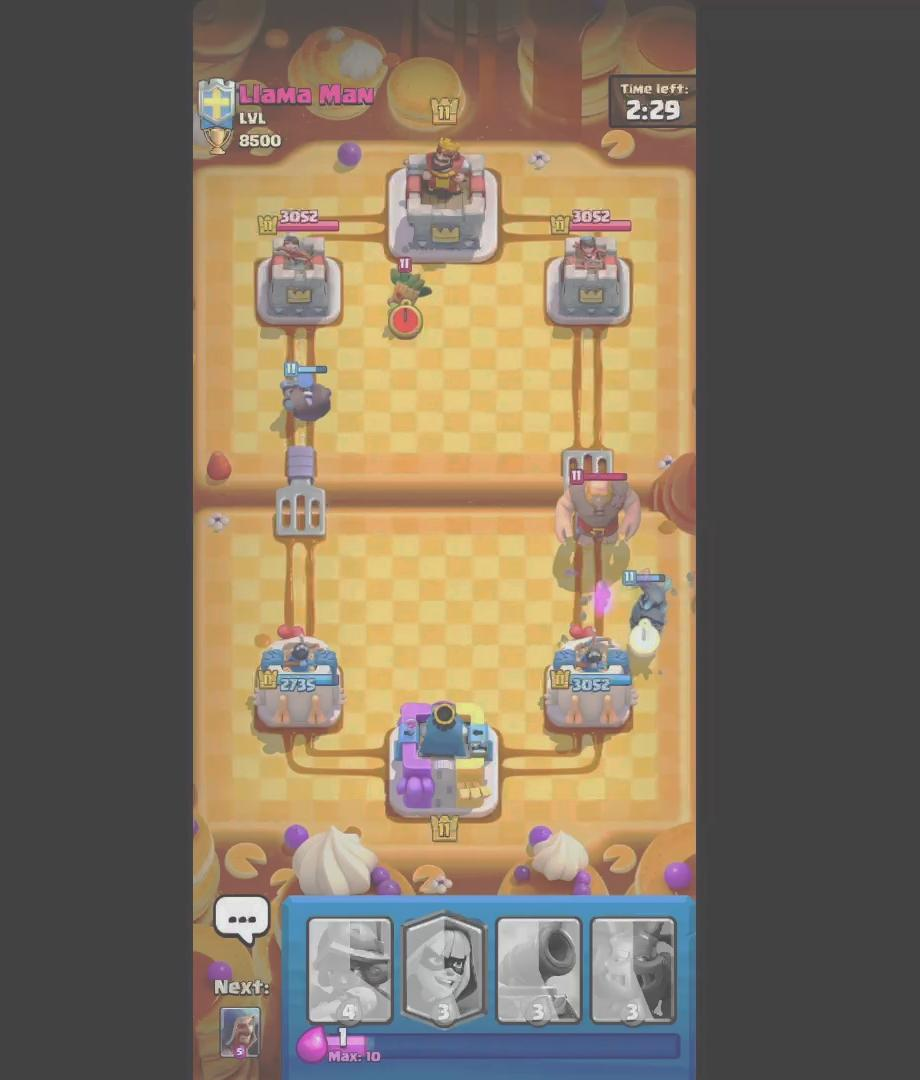Dart Goblin: (381, 254, 434, 339)
Giant: (551, 469, 642, 552)
